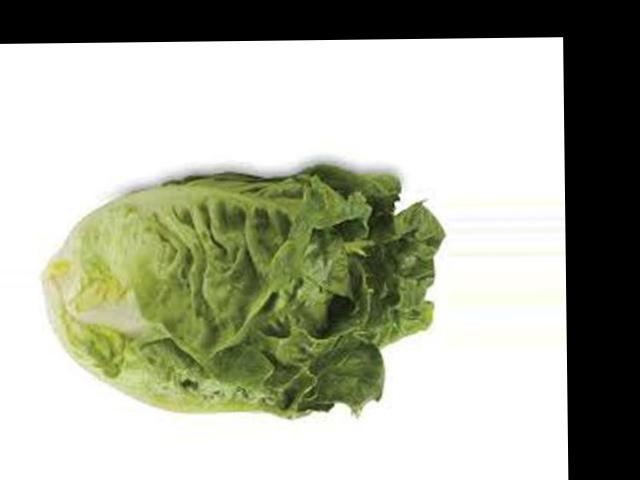lettuce: (248, 161, 393, 315)
